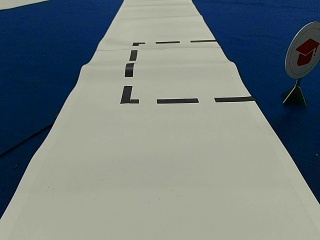school: (285, 21, 318, 77)
